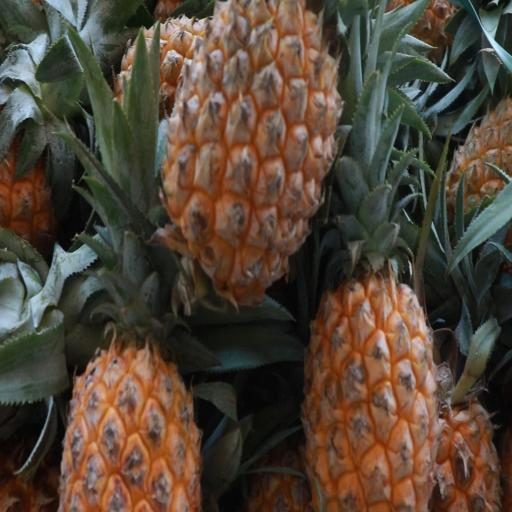Pineapple - v8 v1: (154, 2, 347, 312), (294, 151, 441, 512), (56, 275, 206, 512), (422, 336, 505, 512)
